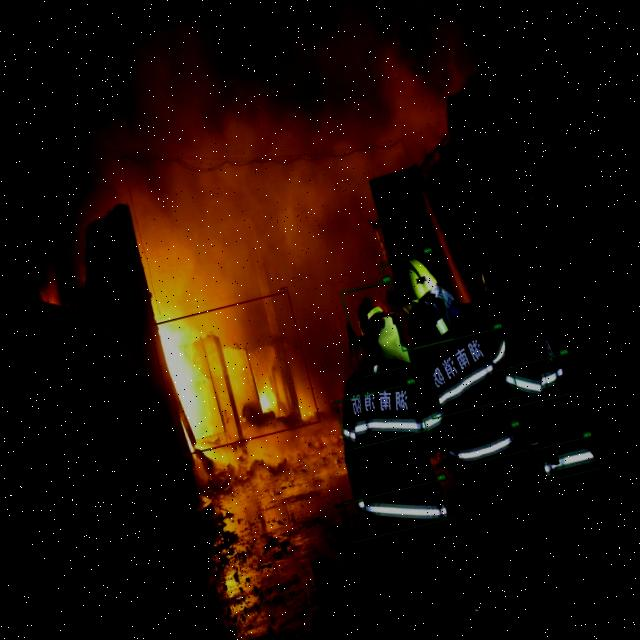fire: (148, 290, 320, 456)
